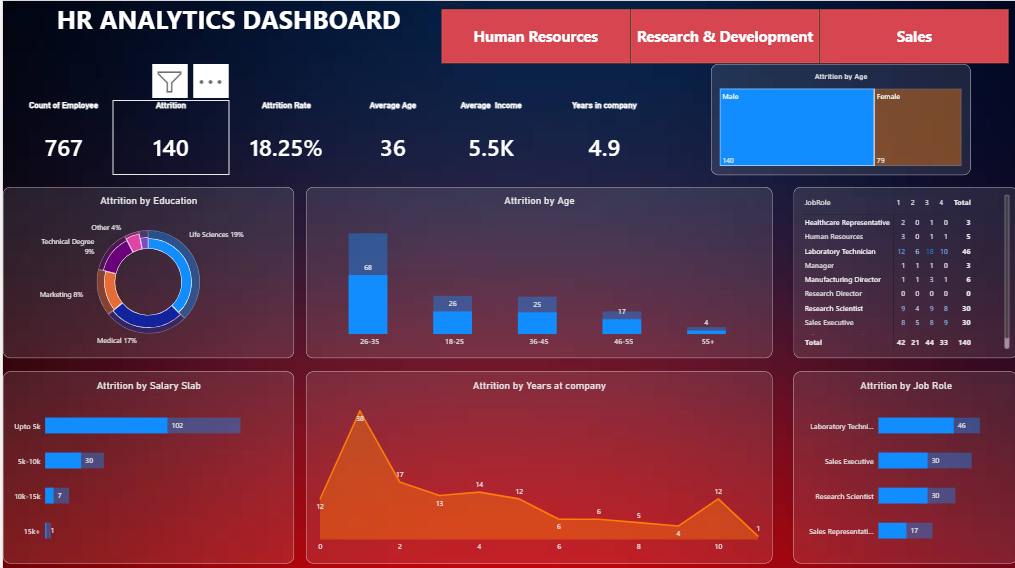

The dashboard page shown, as its layout file describes it:
{"tool":"powerbi","page":{"name":"Page 1","canvas":[1920,1080],"ordinal":0},"visuals":[{"type":"cardVisual","title":"Count of Employee","fields":{"Data":["Count(HR_Analytics.EmpID)"]},"box":[22.7,187.1,184.3,141.7],"z":0},{"type":"cardVisual","title":"Attrition","fields":{"Data":["Sum(HR_Analytics.AttritionCount)"]},"box":[206.9,187.1,221.1,141.7],"z":1000},{"type":"cardVisual","title":"Attrition Rate","fields":{"Data":["HR_Analytics.AttritionRate"]},"box":[428,187.1,215.4,141.7],"z":2000},{"type":"cardVisual","title":"Average Age","fields":{"Data":["Avg(HR_Analytics.Age)"]},"box":[643.5,187.1,187.1,141.7],"z":3000},{"type":"cardVisual","title":"Average  Income","fields":{"Data":["Avg(HR_Analytics.MonthlyIncome)"]},"box":[830.6,187.1,184.3,141.7],"z":4000},{"type":"cardVisual","title":"Years in company","fields":{"Data":["Avg(HR_Analytics.YearsAtCompany)"]},"box":[1037.5,187.1,198.4,141.7],"z":5000},{"type":"donutChart","title":"Attrition by Education","fields":{"Category":["HR_Analytics.EducationField"],"Y":["Sum(HR_Analytics.AttritionCount)"]},"box":[0,351.5,549.9,323.2],"z":6000},{"type":"columnChart","title":"Attrition by Age","fields":{"Category":["HR_Analytics.AgeGroup"],"Y":["Sum(HR_Analytics.AttritionCount)"]},"box":[572.6,351.5,881.6,323.2],"z":7000},{"type":"pivotTable","fields":{"Rows":["HR_Analytics.JobRole"],"Columns":["HR_Analytics.JobSatisfaction"],"Values":["Sum(HR_Analytics.AttritionCount)"]},"box":[1493.9,351.5,425.2,323.2],"z":8000},{"type":"barChart","title":"Attrition by Salary Slab ","fields":{"Category":["HR_Analytics.SalarySlab"],"Y":["Sum(HR_Analytics.AttritionCount)"]},"box":[0,700.2,549.9,362.8],"z":9000},{"type":"barChart","title":"Attrition by Job Role","fields":{"Y":["Sum(HR_Analytics.AttritionCount)"],"Category":["HR_Analytics.JobRole"]},"box":[1493.9,700.2,425.2,362.8],"z":10000},{"type":"areaChart","title":"Attrition by Years at company","fields":{"Category":["HR_Analytics.YearsAtCompany"],"Y":["Sum(HR_Analytics.AttritionCount)"]},"box":[572.6,700.2,881.6,362.8],"z":11000},{"type":"treemap","title":"Attrition by Age","fields":{"Group":["HR_Analytics.Gender"],"Values":["Sum(HR_Analytics.AttritionCount)"]},"box":[1338,119.1,490.4,209.8],"z":12000},{"type":"slicer","fields":{"Values":["HR_Analytics.Department"]},"box":[807.9,0,1111.2,119.1],"z":13000},{"type":"textbox","box":[22.7,0,807.9,153.1],"z":14000}]}

Visuals, with their boxes in screenshot pixels (x1, y1, x2, y2), scaled from the page's 1920x1080 canvas onto the 1015x568 screenshot:
"Count of Employee" cardVisual: bbox(12, 98, 109, 173)
"Attrition" cardVisual: bbox(109, 98, 226, 173)
"Attrition Rate" cardVisual: bbox(226, 98, 340, 173)
"Average Age" cardVisual: bbox(340, 98, 439, 173)
"Average  Income" cardVisual: bbox(439, 98, 537, 173)
"Years in company" cardVisual: bbox(548, 98, 653, 173)
"Attrition by Education" donutChart: bbox(0, 185, 291, 355)
"Attrition by Age" columnChart: bbox(303, 185, 769, 355)
pivotTable - HR_Analytics.JobRole x HR_Analytics.JobSatisfaction: bbox(790, 185, 1014, 355)
"Attrition by Salary Slab " barChart: bbox(0, 368, 291, 559)
"Attrition by Job Role" barChart: bbox(790, 368, 1014, 559)
"Attrition by Years at company" areaChart: bbox(303, 368, 769, 559)
"Attrition by Age" treemap: bbox(707, 63, 967, 173)
slicer - HR_Analytics.Department: bbox(427, 0, 1014, 63)
textbox: bbox(12, 0, 439, 81)
